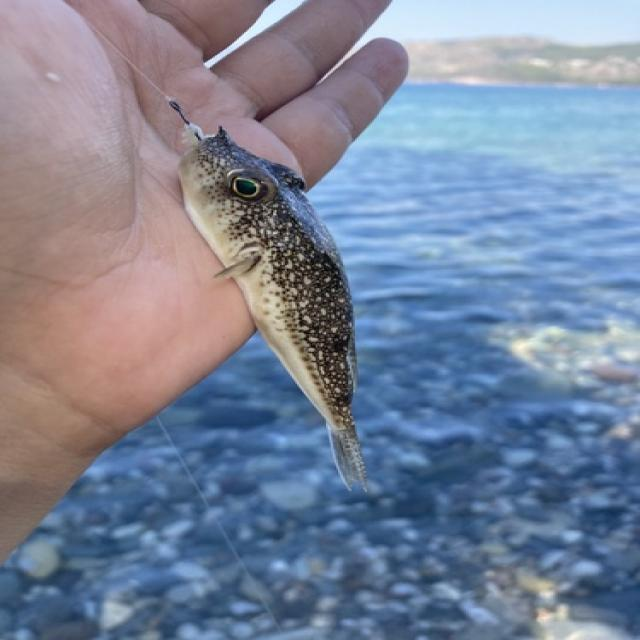Balik: (180, 128, 365, 487)
